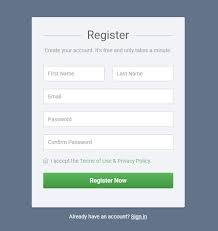Button: (42, 171, 180, 191)
CheckBox: (41, 156, 52, 166)
TextBox: (44, 132, 179, 153), (44, 87, 177, 108), (43, 65, 107, 83)
